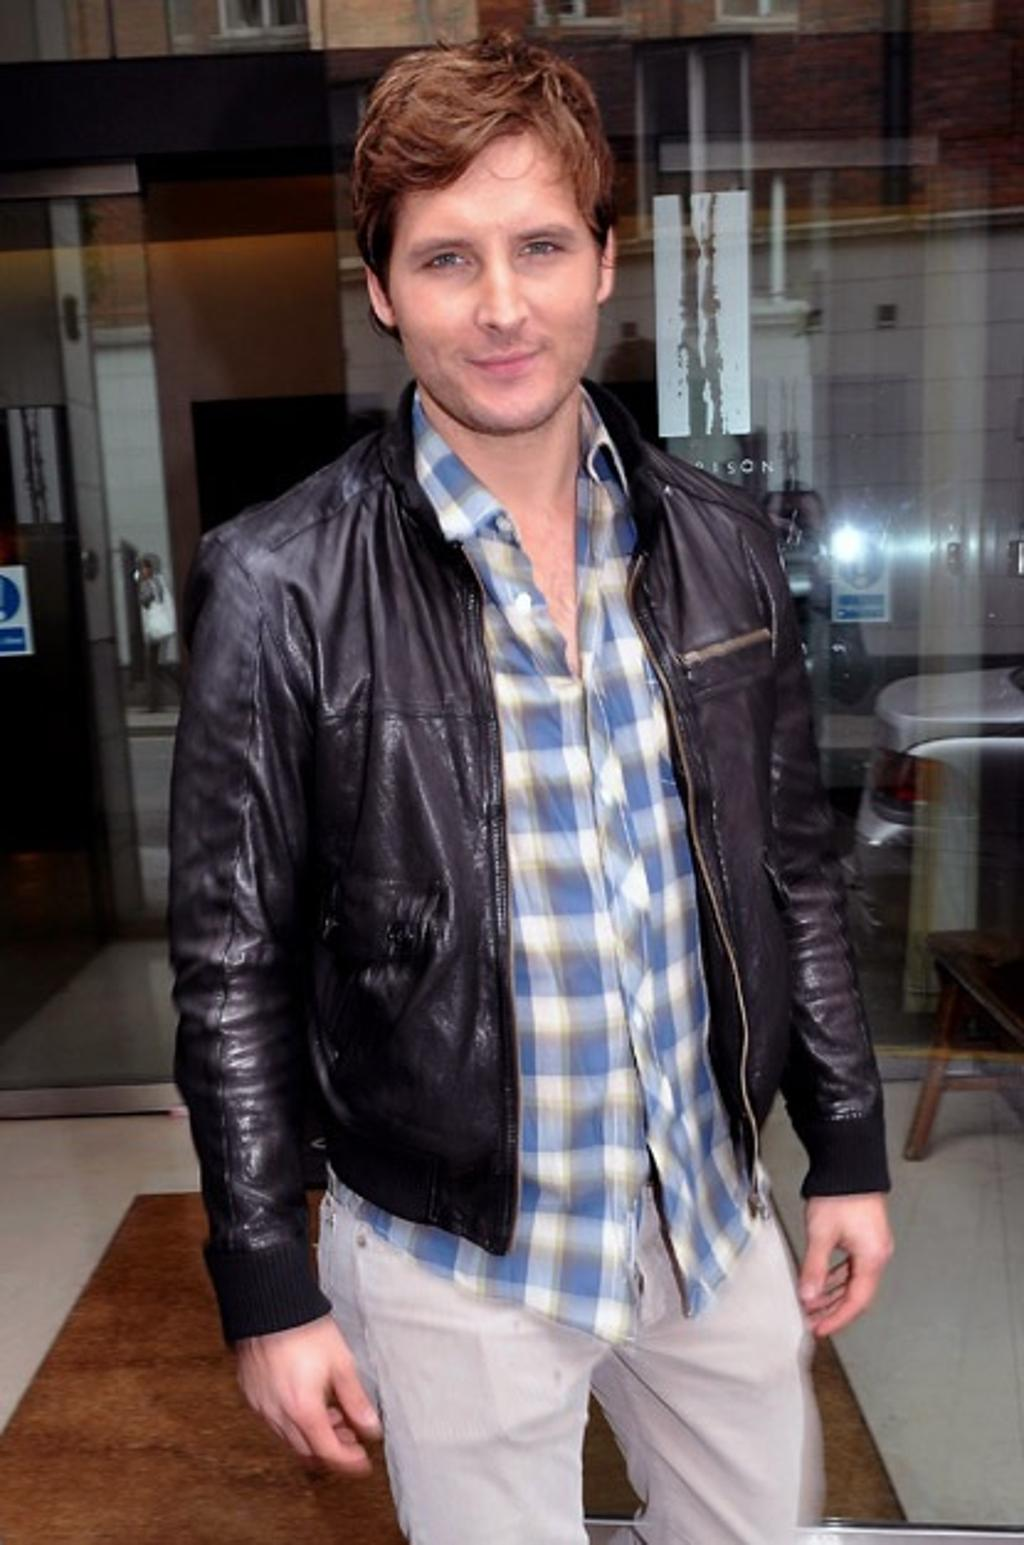face: (414, 151, 595, 414)
